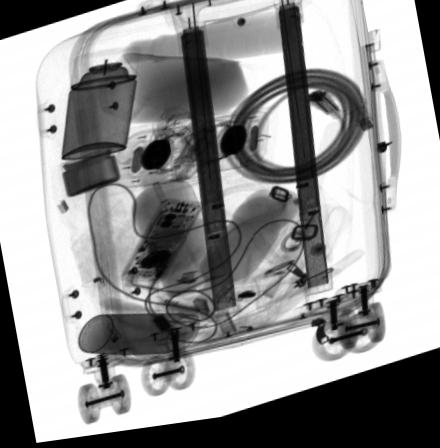Sprayer: (60, 49, 138, 162)
